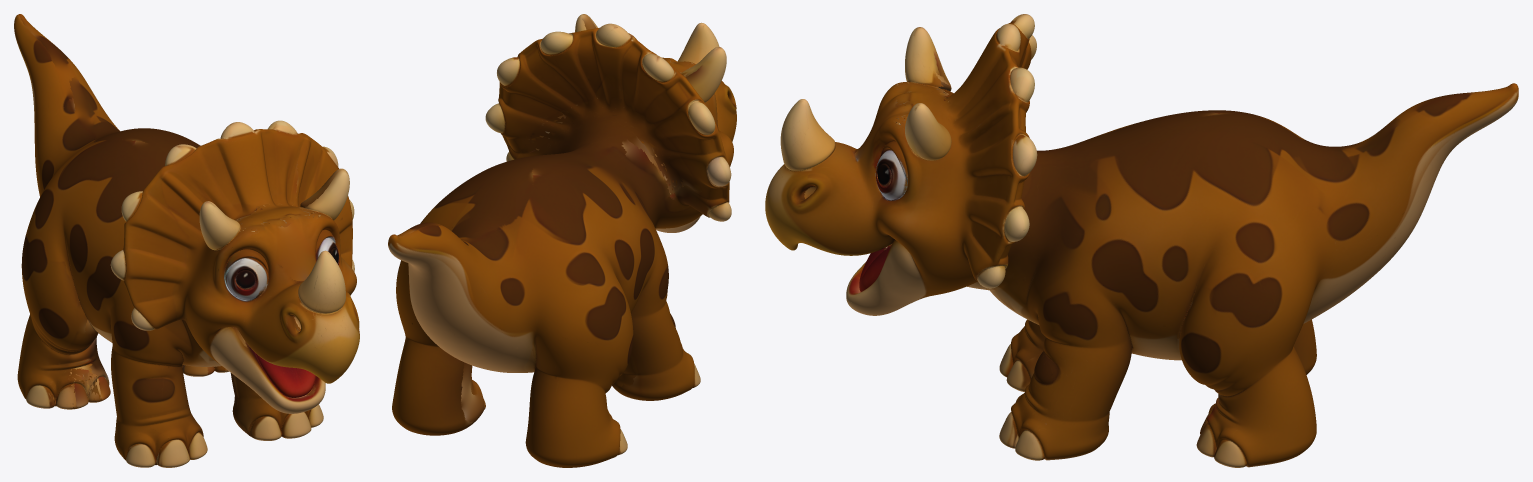
Rendered from tiny_planet_friends_3d-dinosaurs-4032.glb.
3 renders of one model, left to right at view 1: azimuth 30°, elevation 25°; view 2: azimuth 150°, elevation 25°; view 3: azimuth 270°, elevation 25°, orthographic. The views are drawn at different scales.
Visible parts, largest first — view 1: texture_pbr_v128; view 2: texture_pbr_v128; view 3: texture_pbr_v128.
Part boxes in pixels (bbox=[...]): texture_pbr_v128: bbox=[14, 14, 359, 467]; texture_pbr_v128: bbox=[388, 14, 736, 467]; texture_pbr_v128: bbox=[765, 14, 1518, 467].
Bounding box in the file's own units: 0.4834 × 0.6289 × 1.12.
Materials: 1 (1 with a texture image).
